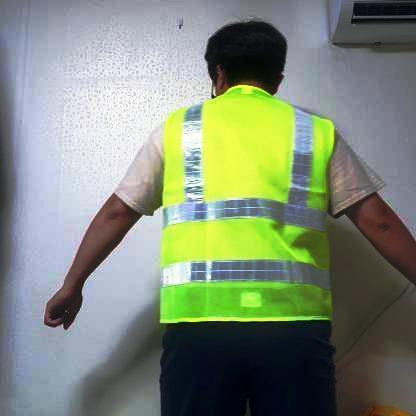no-helmet: (207, 18, 288, 91)
vest: (155, 84, 341, 325)
